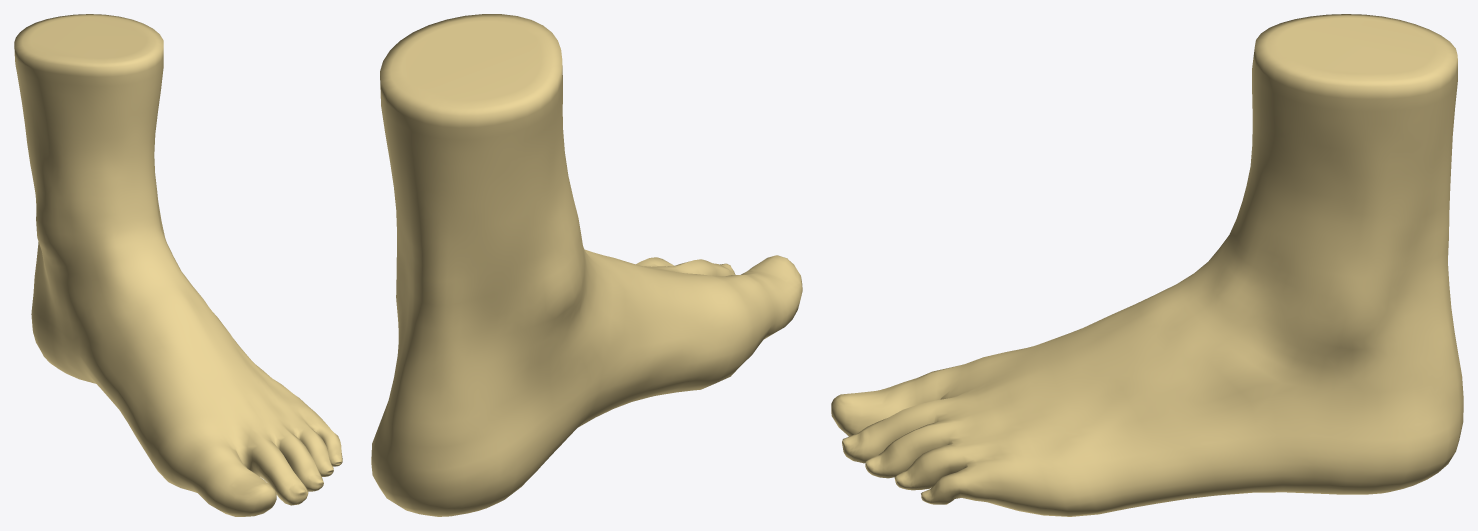
File: LeftFoot.glb
The picture shows the model from 3 angles, left to right: view 1: azimuth 30°, elevation 25°; view 2: azimuth 150°, elevation 25°; view 3: azimuth 270°, elevation 25°; orthographic projection. The views are drawn at different scales.
Visible parts, largest first — view 1: Foot - Left; view 2: Foot - Left; view 3: Foot - Left.
Boxes of the visible parts, left/top/right/bottom form: Foot - Left: left=14, top=14, right=342, bottom=516; Foot - Left: left=371, top=14, right=802, bottom=516; Foot - Left: left=831, top=14, right=1463, bottom=516.
Bounding box in the file's own units: 0.0912 × 0.1781 × 0.2359.
